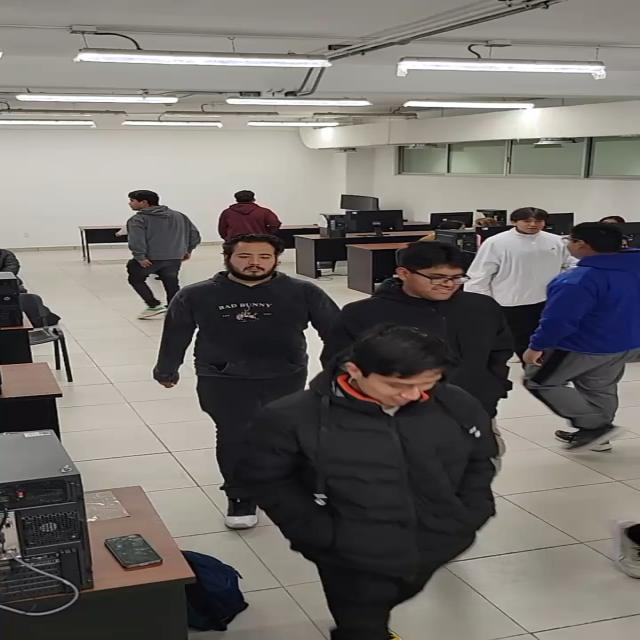Persona: (222, 324, 502, 640), (150, 230, 358, 532), (334, 244, 514, 440), (519, 220, 640, 458), (458, 204, 586, 372), (123, 188, 200, 321), (215, 190, 290, 260)
